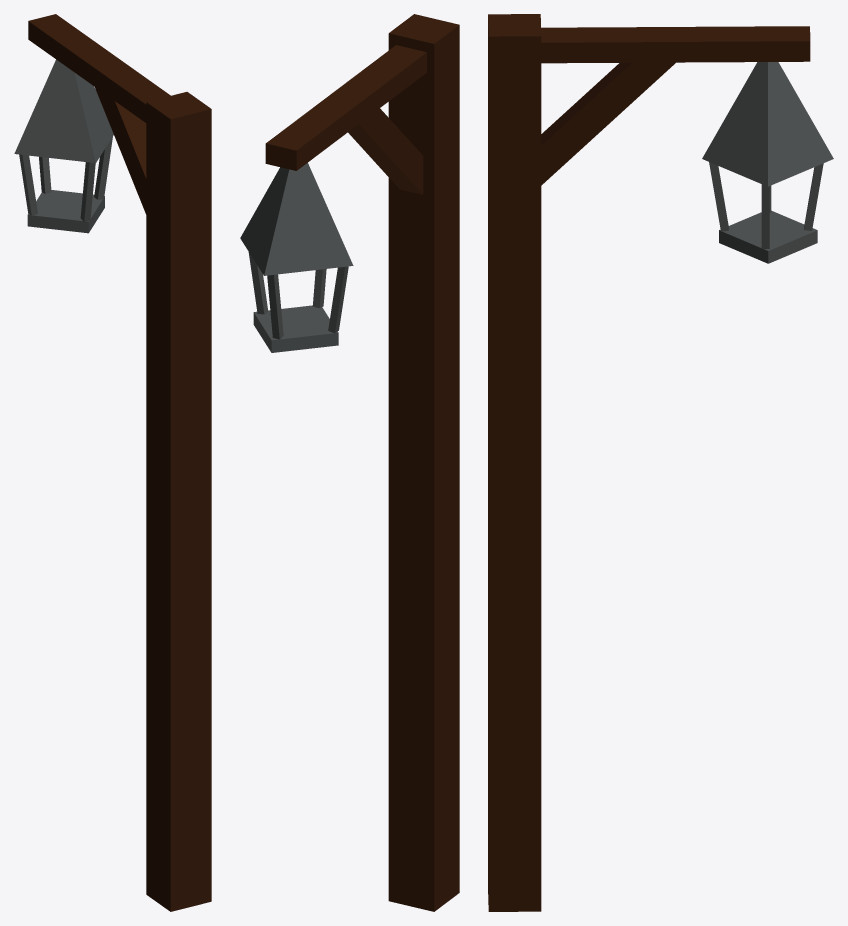
Rendered from LaternV1.fbx.
3 views of the same model, side by side, from view 1: azimuth 30°, elevation 25°; view 2: azimuth 150°, elevation 25°; view 3: azimuth 270°, elevation 25° (orthographic). The views are drawn at different scales.
Parts seen in each view (by area): view 1: Cube.1495; view 2: Cube.1495; view 3: Cube.1495.
Boxes of the visible parts, left/top/right/bottom form: Cube.1495: left=14, top=14, right=211, bottom=911; Cube.1495: left=240, top=14, right=459, bottom=911; Cube.1495: left=488, top=14, right=833, bottom=911.
Bounding box in the file's own units: 8.62 × 63.06 × 22.59.
